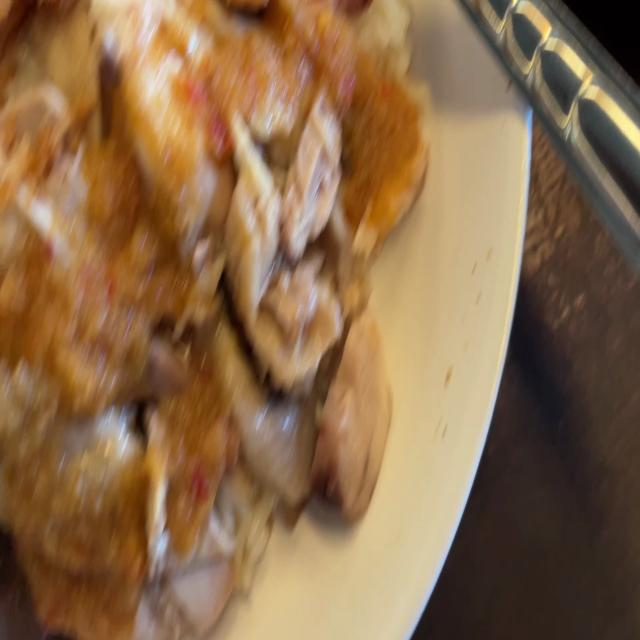boiled_chicken: (0, 0, 405, 531)
chicken_rice: (0, 0, 434, 640)
